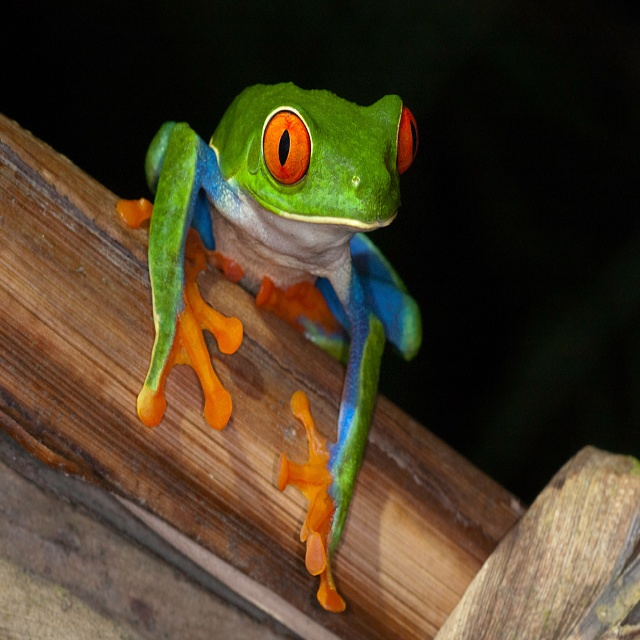Frog: (114, 85, 424, 612)
